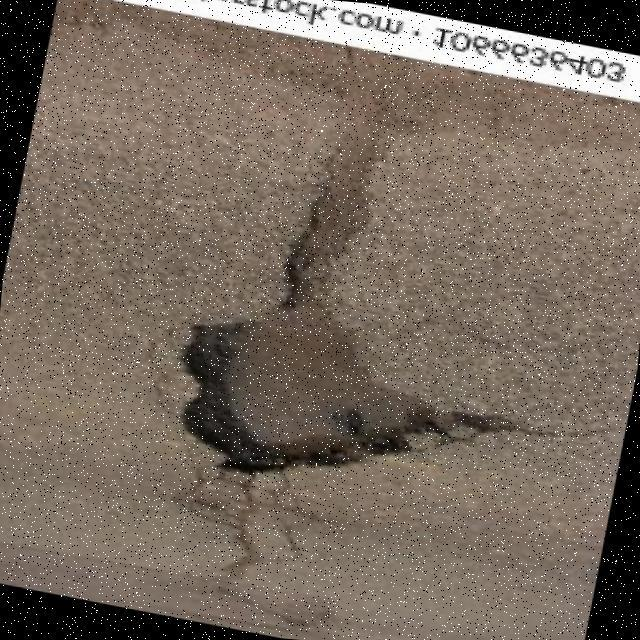Pothole: (182, 145, 439, 472)
